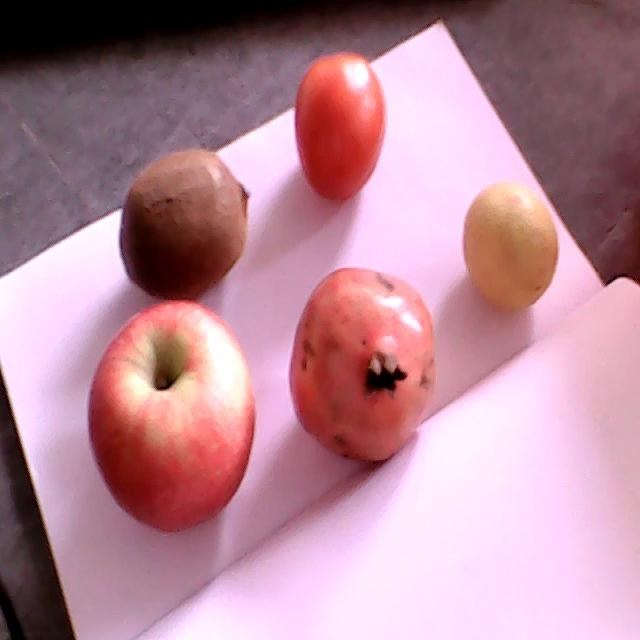apple: (88, 301, 256, 529)
kiwi: (119, 149, 252, 298)
lemon: (463, 182, 559, 309)
pomegranate: (289, 268, 437, 463)
tomato: (294, 50, 385, 199)
